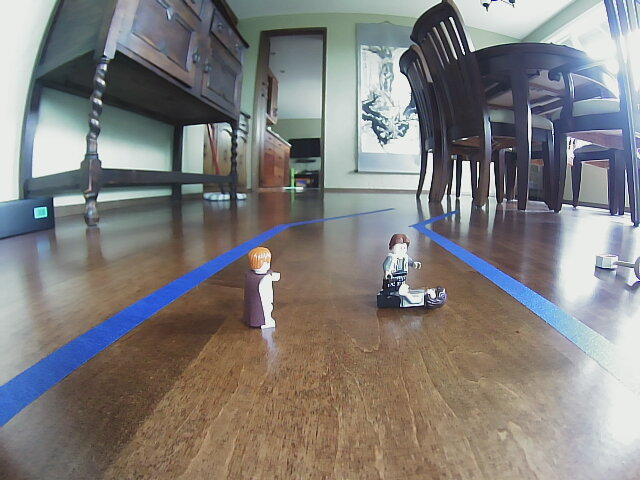person: (245, 246, 281, 334), (373, 284, 451, 321), (378, 230, 422, 286)
